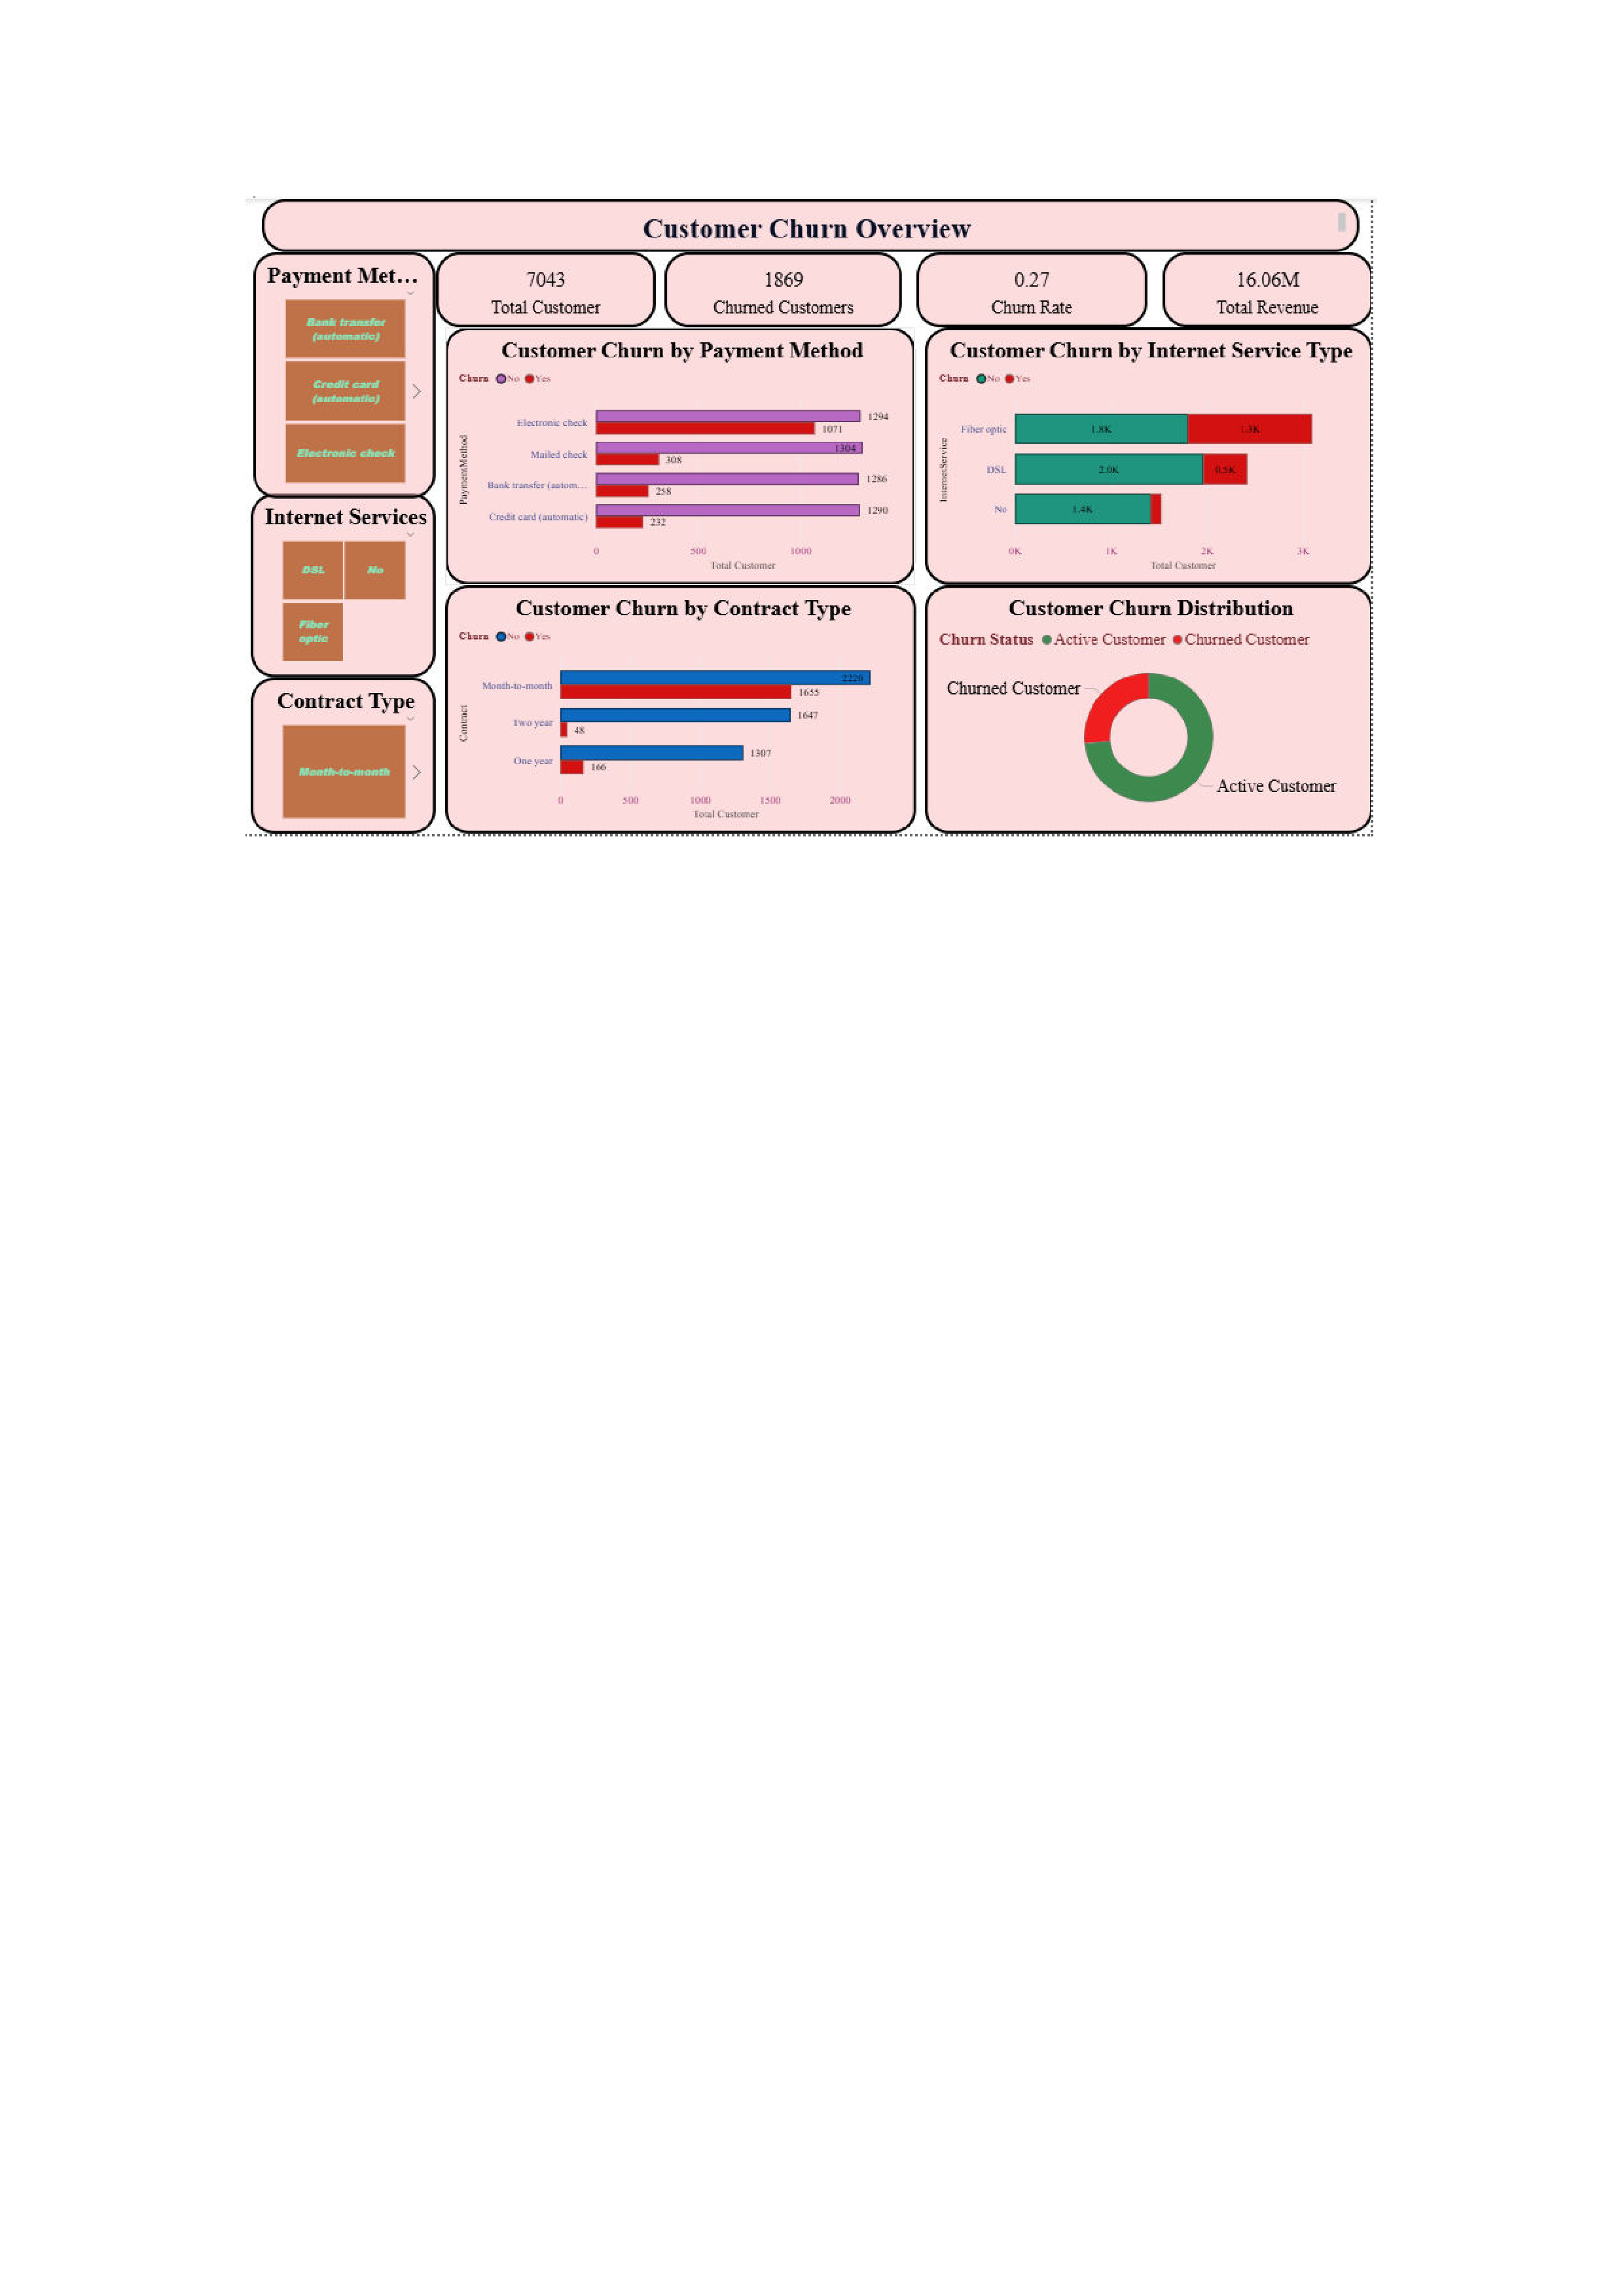

This screenshot's page, from the dashboard's own definition file:
{"tool":"powerbi","page":{"name":"Dashboard","canvas":[1280,720],"ordinal":2},"visuals":[{"type":"clusteredBarChart","title":"Customer Churn by Contract Type","fields":{"Category":["Contract Type.Contract"],"Y":["Calculated Measures.Total Customer"],"Series":["Churn Status.Churn"]},"box":[229,437.8,534.2,282.2],"z":0},{"type":"barChart","title":"Customer Churn by Internet Service Type","fields":{"Category":["Internet Service.InternetService"],"Y":["Calculated Measures.Total Customer"],"Series":["Churn Status.Churn"]},"box":[773.3,145.4,506.9,292.3],"z":1000},{"type":"donutChart","title":"Customer Churn Distribution","fields":{"Y":["Calculated Measures.Total Customer"],"Category":["Customer Retention & Churn Anal.Churn Status","Churn Status.Churn"]},"box":[773.3,437.8,506.9,282.2],"z":2000},{"type":"clusteredBarChart","title":"Customer Churn by Payment Method","fields":{"Category":["Payment Method.PaymentMethod"],"Y":["Calculated Measures.Total Customer"],"Series":["Churn Status.Churn"]},"box":[229,145.4,532.8,292.3],"z":3000},{"type":"slicer","title":"Contract Type","fields":{"Values":["Contract Type.Contract"]},"box":[8.6,542.9,210.2,177.1],"z":4000},{"type":"slicer","title":"Internet Services","fields":{"Values":["Internet Service.InternetService"]},"box":[8.4,334.3,210,208.3],"z":5000},{"type":"slicer","title":"Payment Method","fields":{"Values":["Customer Retention & Churn Anal.PaymentMethod"]},"box":[11.5,60.5,207.4,279.4],"z":6000},{"type":"card","fields":{"Values":["Calculated Measures.Total Customer"]},"box":[218.9,60.5,249.1,85],"z":7000},{"type":"card","fields":{"Values":["Calculated Measures.Churned Customers"]},"box":[478.1,60.5,269.3,85],"z":8000},{"type":"card","fields":{"Values":["Calculated Measures.Churn Rate"]},"box":[763.2,60.5,262.1,85],"z":9000},{"type":"card","fields":{"Values":["Calculated Measures.Total Revenue"]},"box":[1042.6,60.5,237.6,85],"z":10000},{"type":"textbox","box":[21.6,0,1244.2,60.5],"z":11000}]}

Visuals, with their boxes on the page's 1280x720 design canvas (x1, y1, x2, y2). These are canvas units, not pixel positions in the 1624x2296 screenshot, which may show the page scaled, cropped or inside an application window:
"Customer Churn by Contract Type" clusteredBarChart: locate(229, 438, 763, 720)
"Customer Churn by Internet Service Type" barChart: locate(773, 145, 1280, 438)
"Customer Churn Distribution" donutChart: locate(773, 438, 1280, 720)
"Customer Churn by Payment Method" clusteredBarChart: locate(229, 145, 762, 438)
"Contract Type" slicer: locate(9, 543, 219, 720)
"Internet Services" slicer: locate(8, 334, 218, 543)
"Payment Method" slicer: locate(12, 60, 219, 340)
card - Calculated Measures.Total Customer: locate(219, 60, 468, 146)
card - Calculated Measures.Churned Customers: locate(478, 60, 747, 146)
card - Calculated Measures.Churn Rate: locate(763, 60, 1025, 146)
card - Calculated Measures.Total Revenue: locate(1043, 60, 1280, 146)
textbox: locate(22, 0, 1266, 60)
